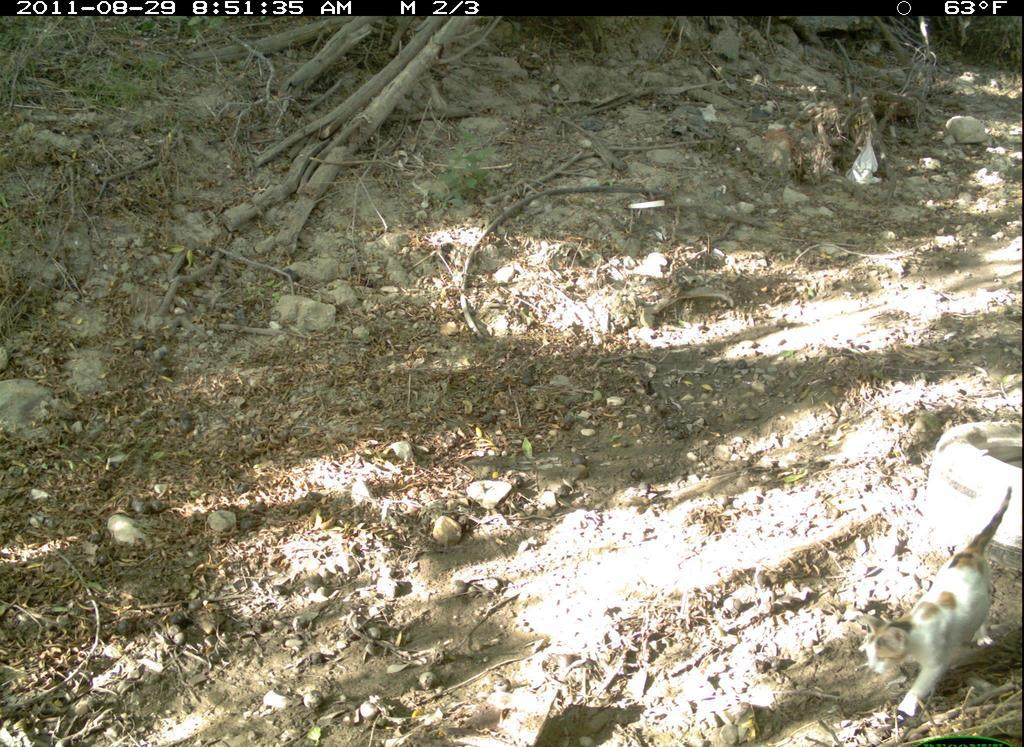cat: (840, 470, 1020, 733)
